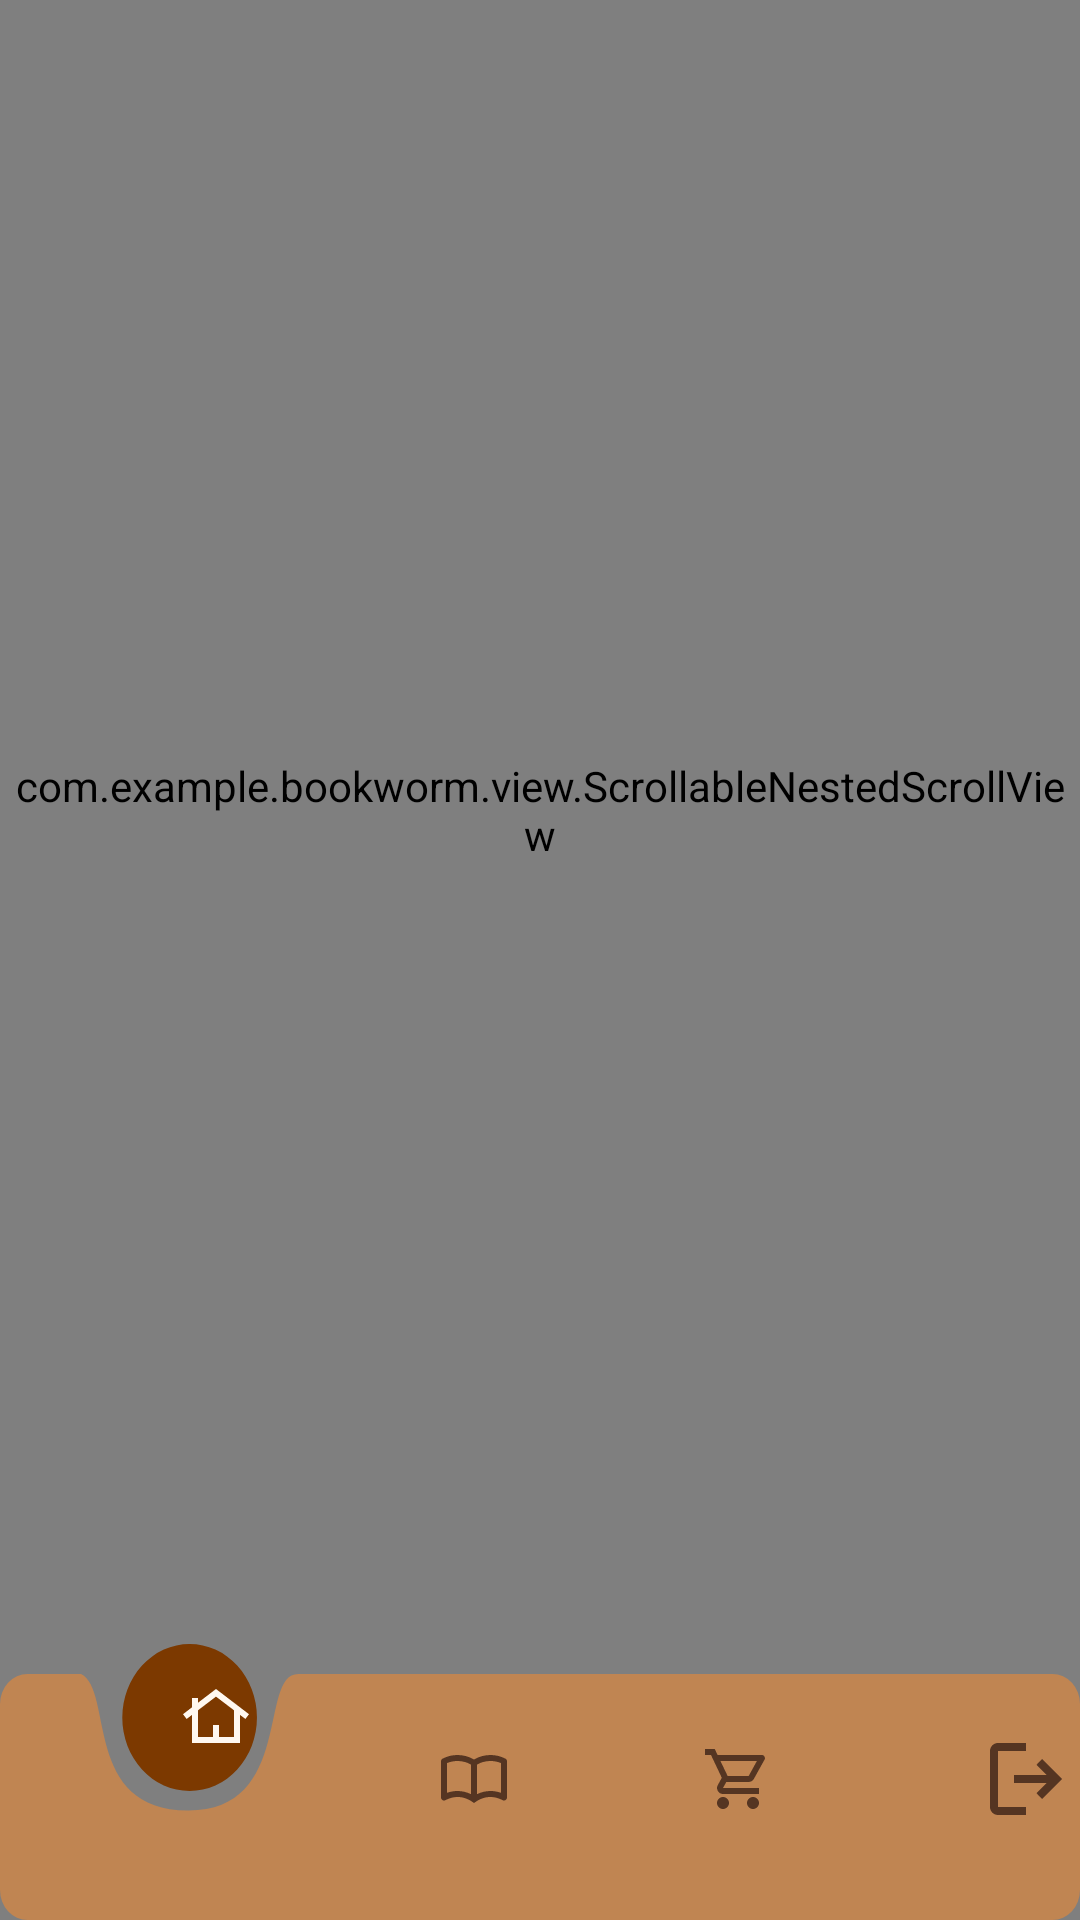

Screen size 1080x1920. Icon name, then its box in pixels as box(x1, y1, x2, y2):
Books: box(441, 1755, 507, 1803)
Home: box(183, 1689, 249, 1743)
Stores: box(705, 1749, 765, 1809)
